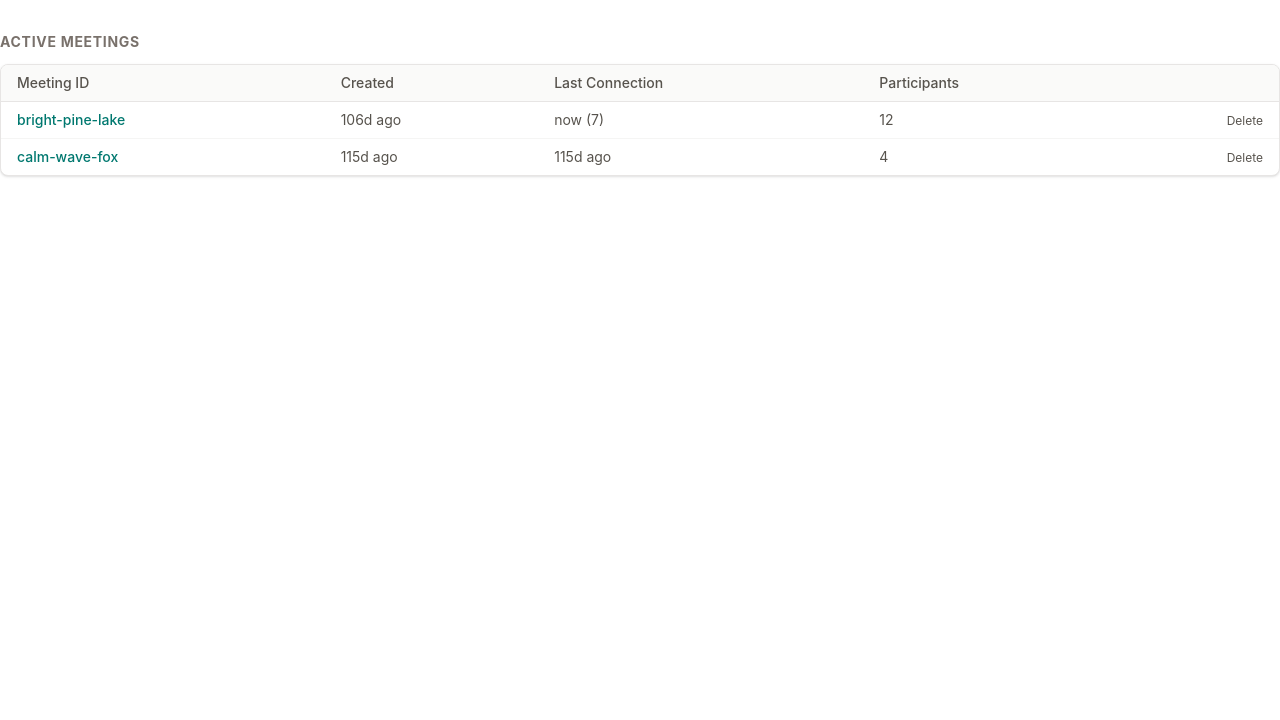
Test: AdminPanel › shows a delete confirmation dialog when delete is clicked
Expected: the link "bright-pine-lake" is shown, [17,111,125,128]
// Click the first delete button
Click the button "Delete" in the row of "bright-pine-lake".
click(1245, 121)  # box [1227,113,1263,129]
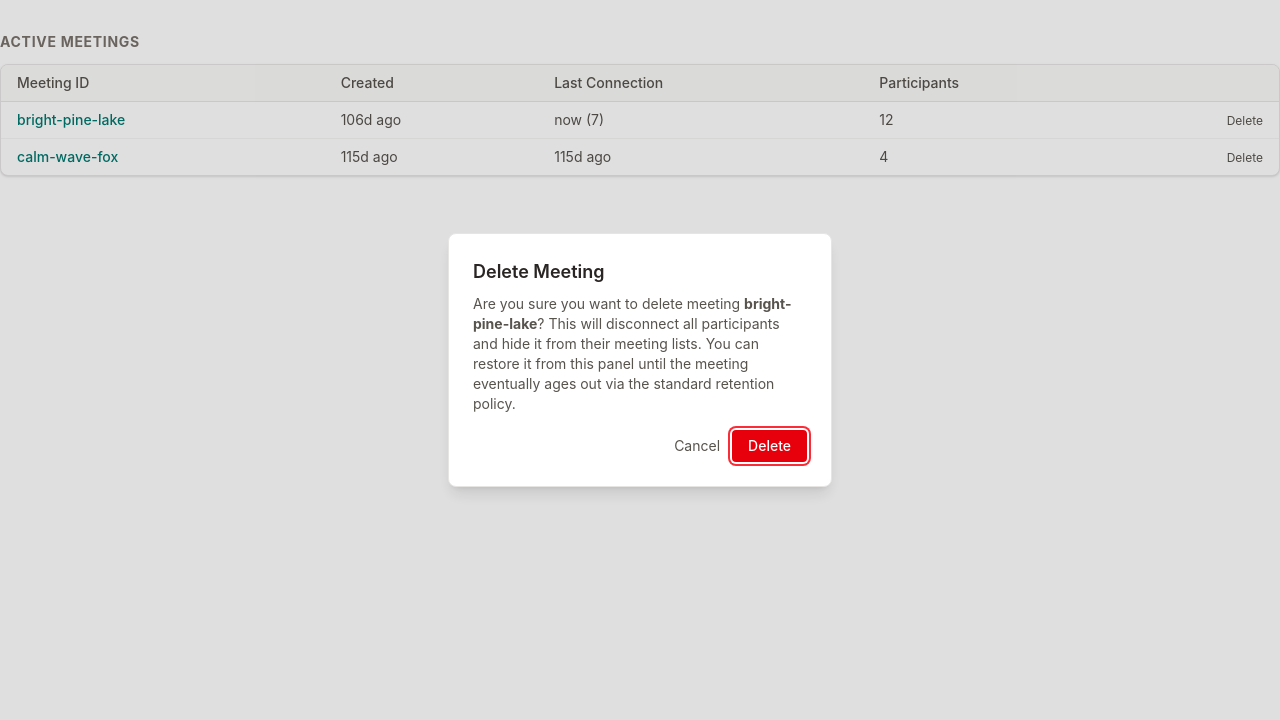
Expected: the text "Are you sure" is shown, [473,295,744,312]
Expected: the dialog named "confirm deletion" is shown, [448,233,832,487]
